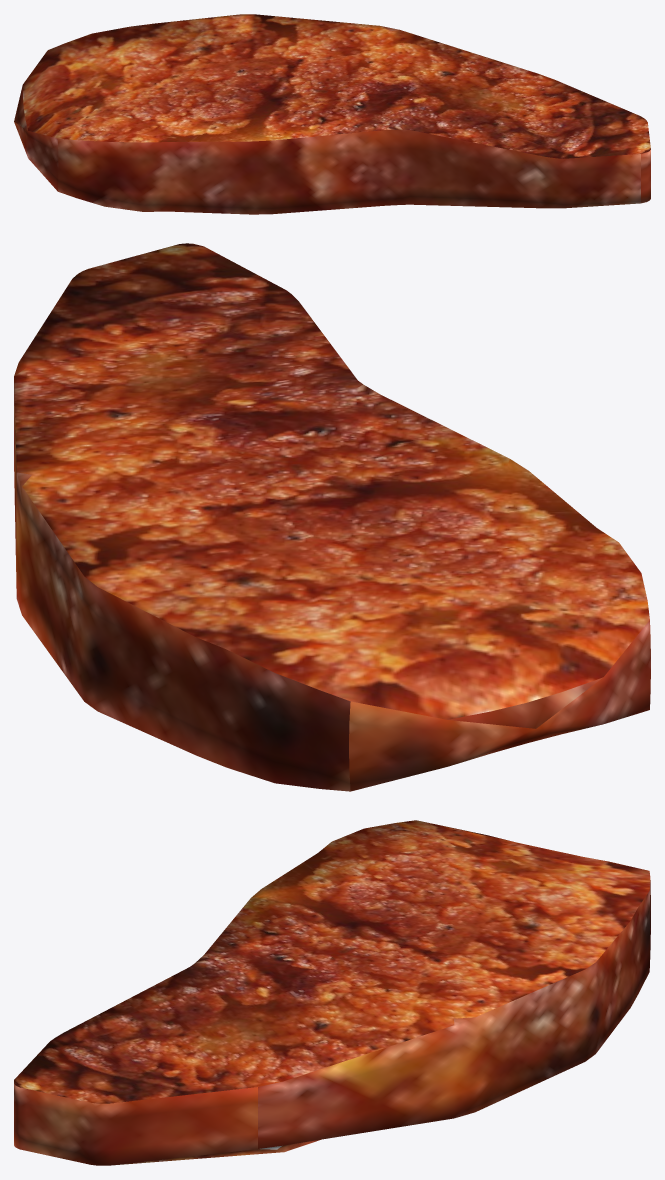
Rendered from friedChicken.fbx.
3 views of the same model, one above another, from view 1: azimuth 30°, elevation 25°; view 2: azimuth 150°, elevation 25°; view 3: azimuth 270°, elevation 25° (orthographic). The views are drawn at different scales.
Visible parts, largest first — view 1: chicken; view 2: chicken; view 3: chicken.
Part boxes in pixels (x1,y1,x2,y2): chicken: (14, 14, 650, 214); chicken: (14, 243, 650, 791); chicken: (14, 820, 650, 1165).
Size of the model in its own units: 90.1 by 14.12 by 85.61.
1 material, 1 textured.
